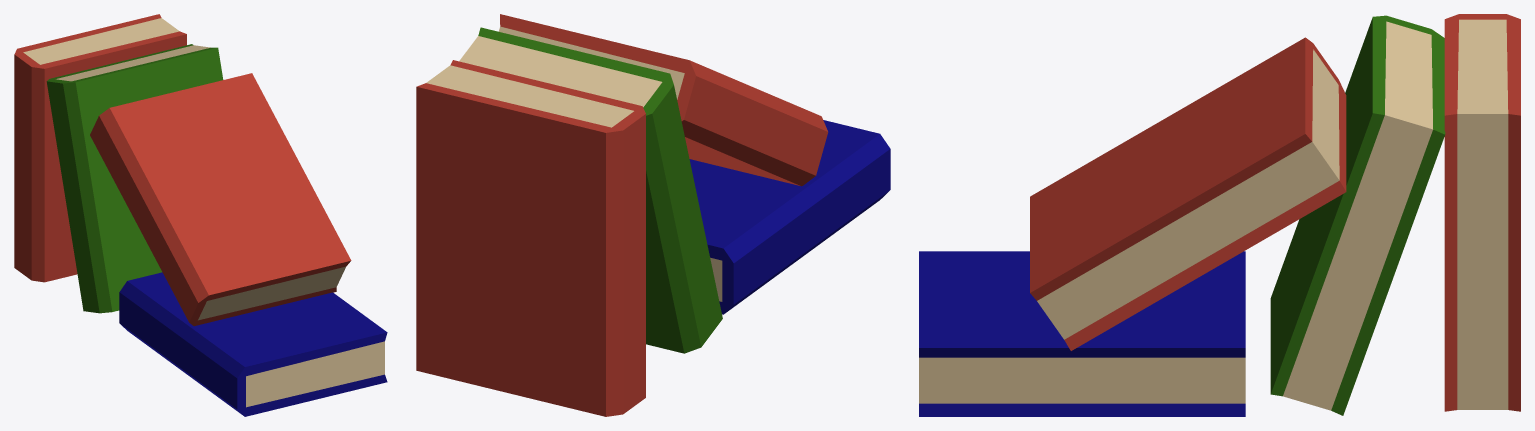
The model's file is book 1.fbx.
The picture shows the model from 3 angles, left to right: view 1: azimuth 30°, elevation 25°; view 2: azimuth 150°, elevation 25°; view 3: azimuth 270°, elevation 25°; orthographic projection. The views are drawn at different scales.
Parts seen in each view (by area): view 1: pCube33; view 2: pCube33; view 3: pCube33.
Boxes of the visible parts, x1=… form: pCube33: x1=14, y1=14, x2=387, y2=416; pCube33: x1=416, y1=14, x2=890, y2=416; pCube33: x1=919, y1=14, x2=1520, y2=416.
Size of the model in its own units: 5.56 by 7.03 by 12.66.
